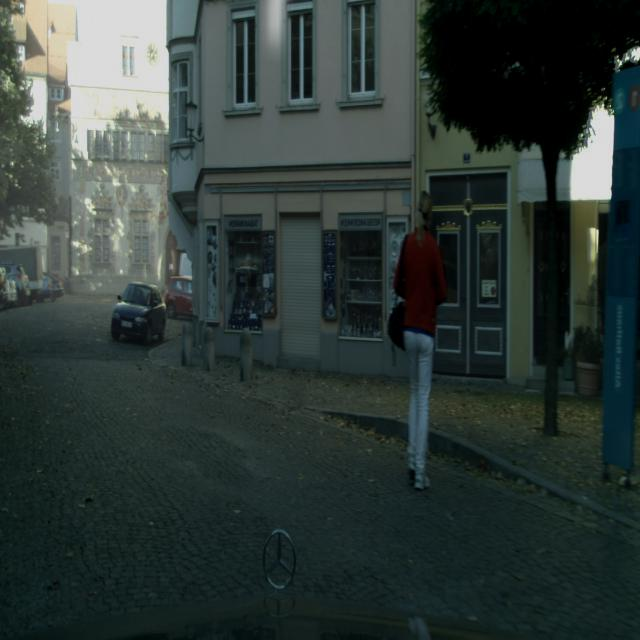bus: (110, 283, 166, 351), (169, 274, 195, 322)
person: (391, 189, 447, 492)
